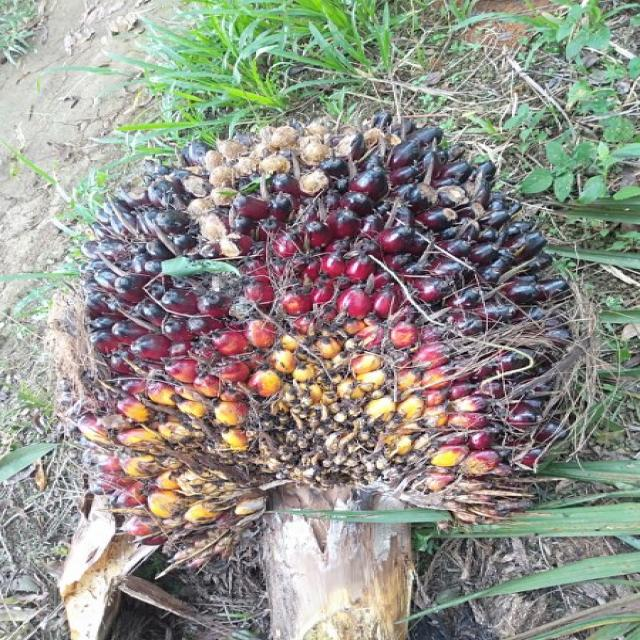fraksi 00: (72, 116, 574, 560)
